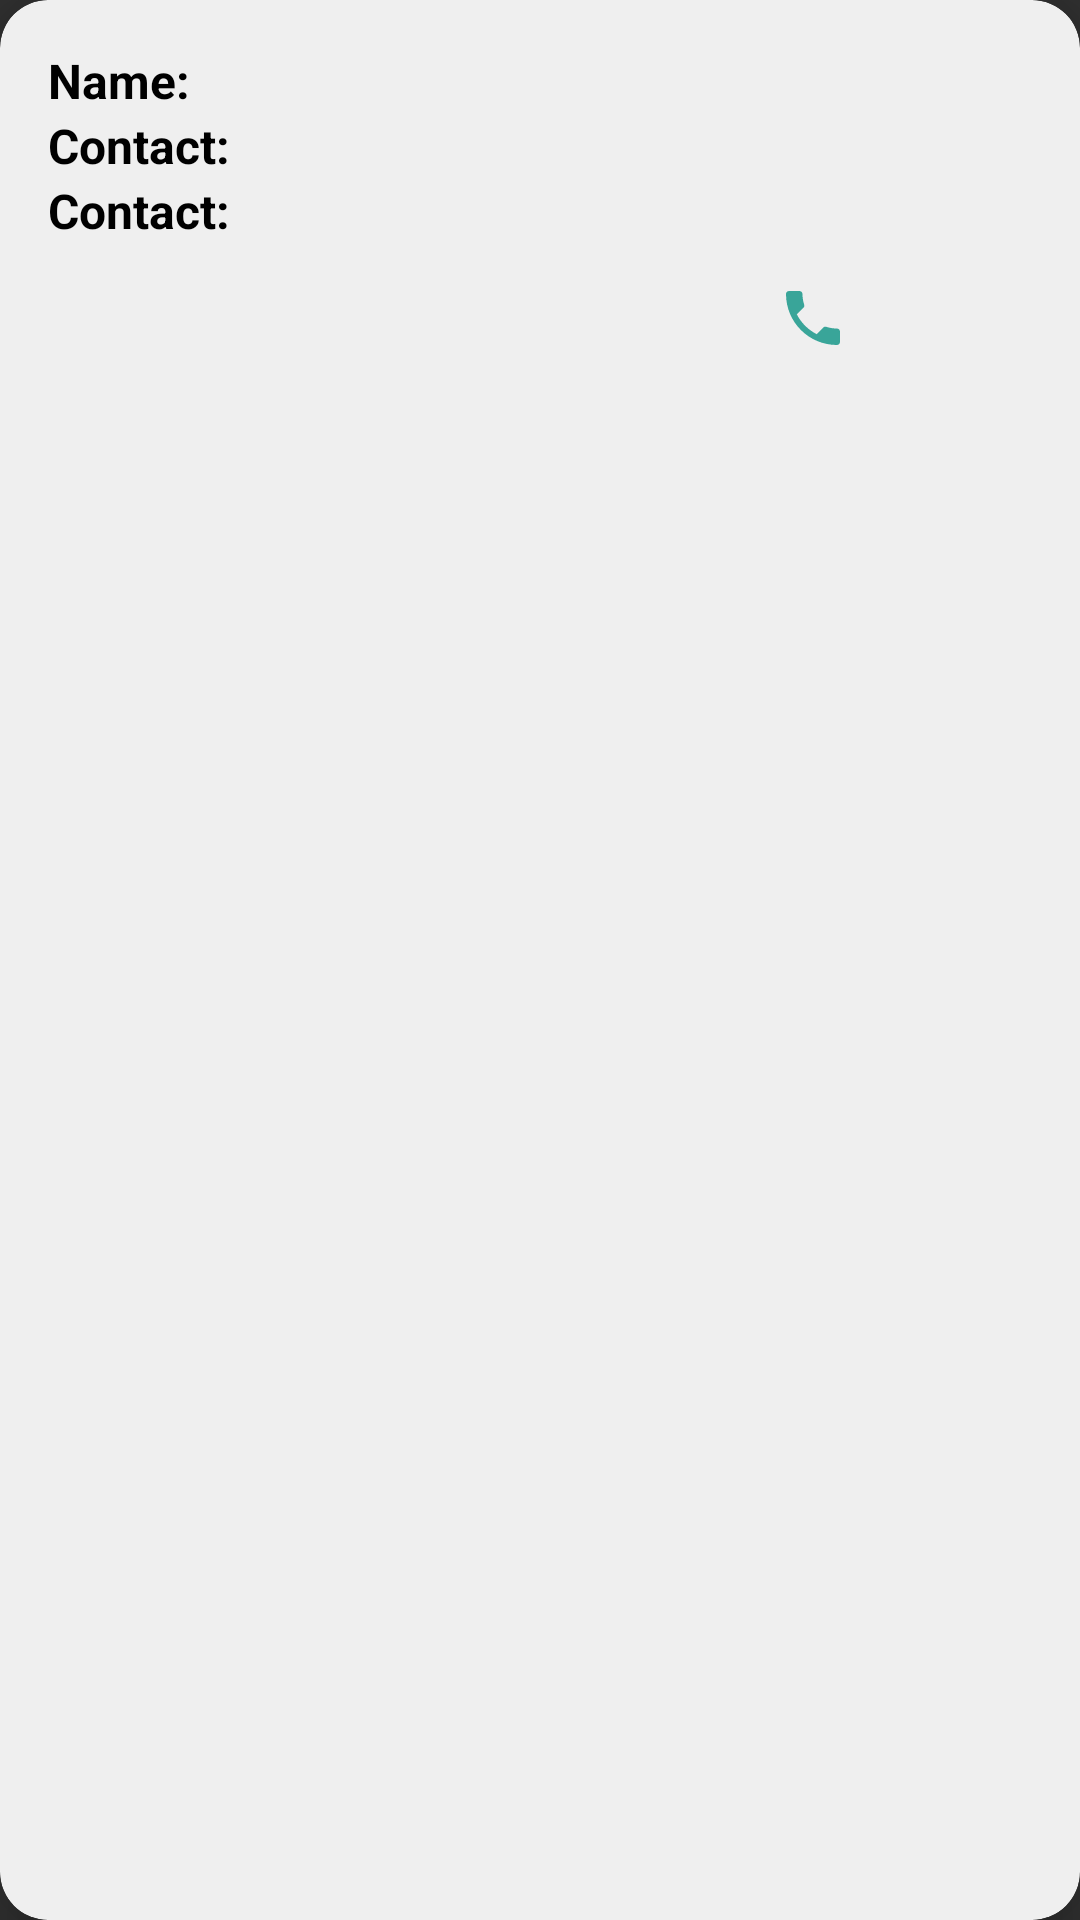

Named icons in this screenshot (1080 × 1920) and their bounding boxes, (x1, y1, x2, y2):
phone: (786, 291, 840, 345)
